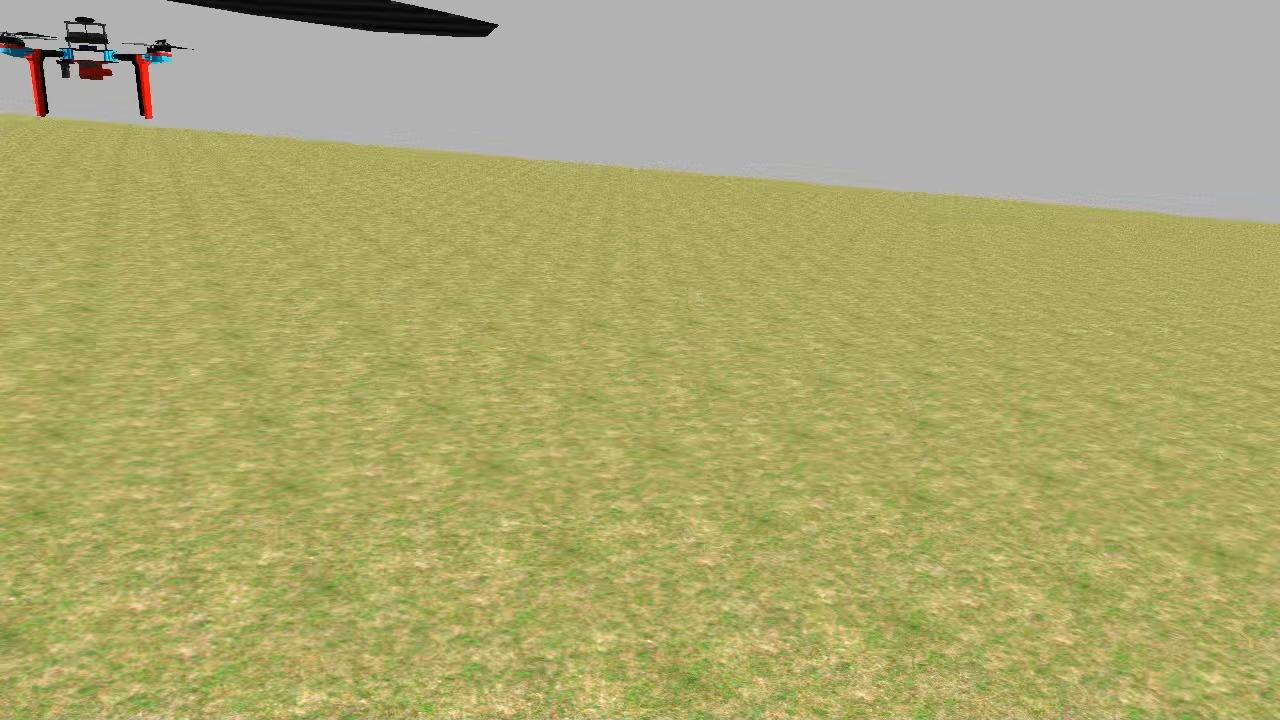UAV: (0, 3, 180, 128)
